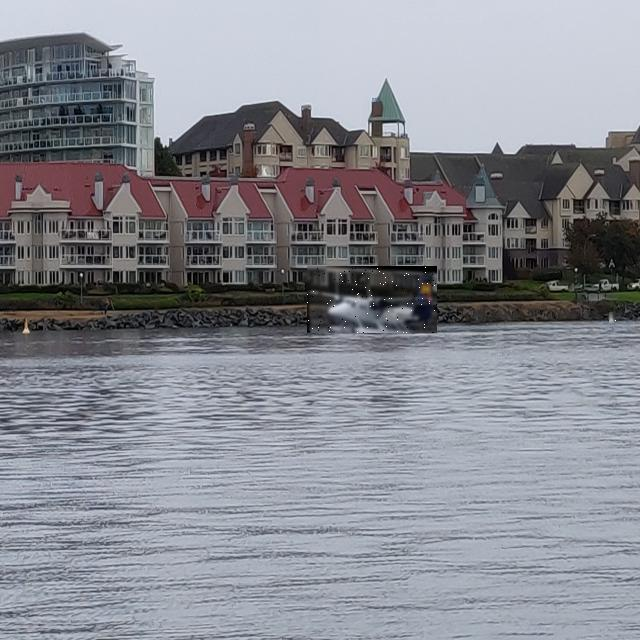aircraft: (307, 266, 437, 333)
mark: (610, 312, 618, 324)
